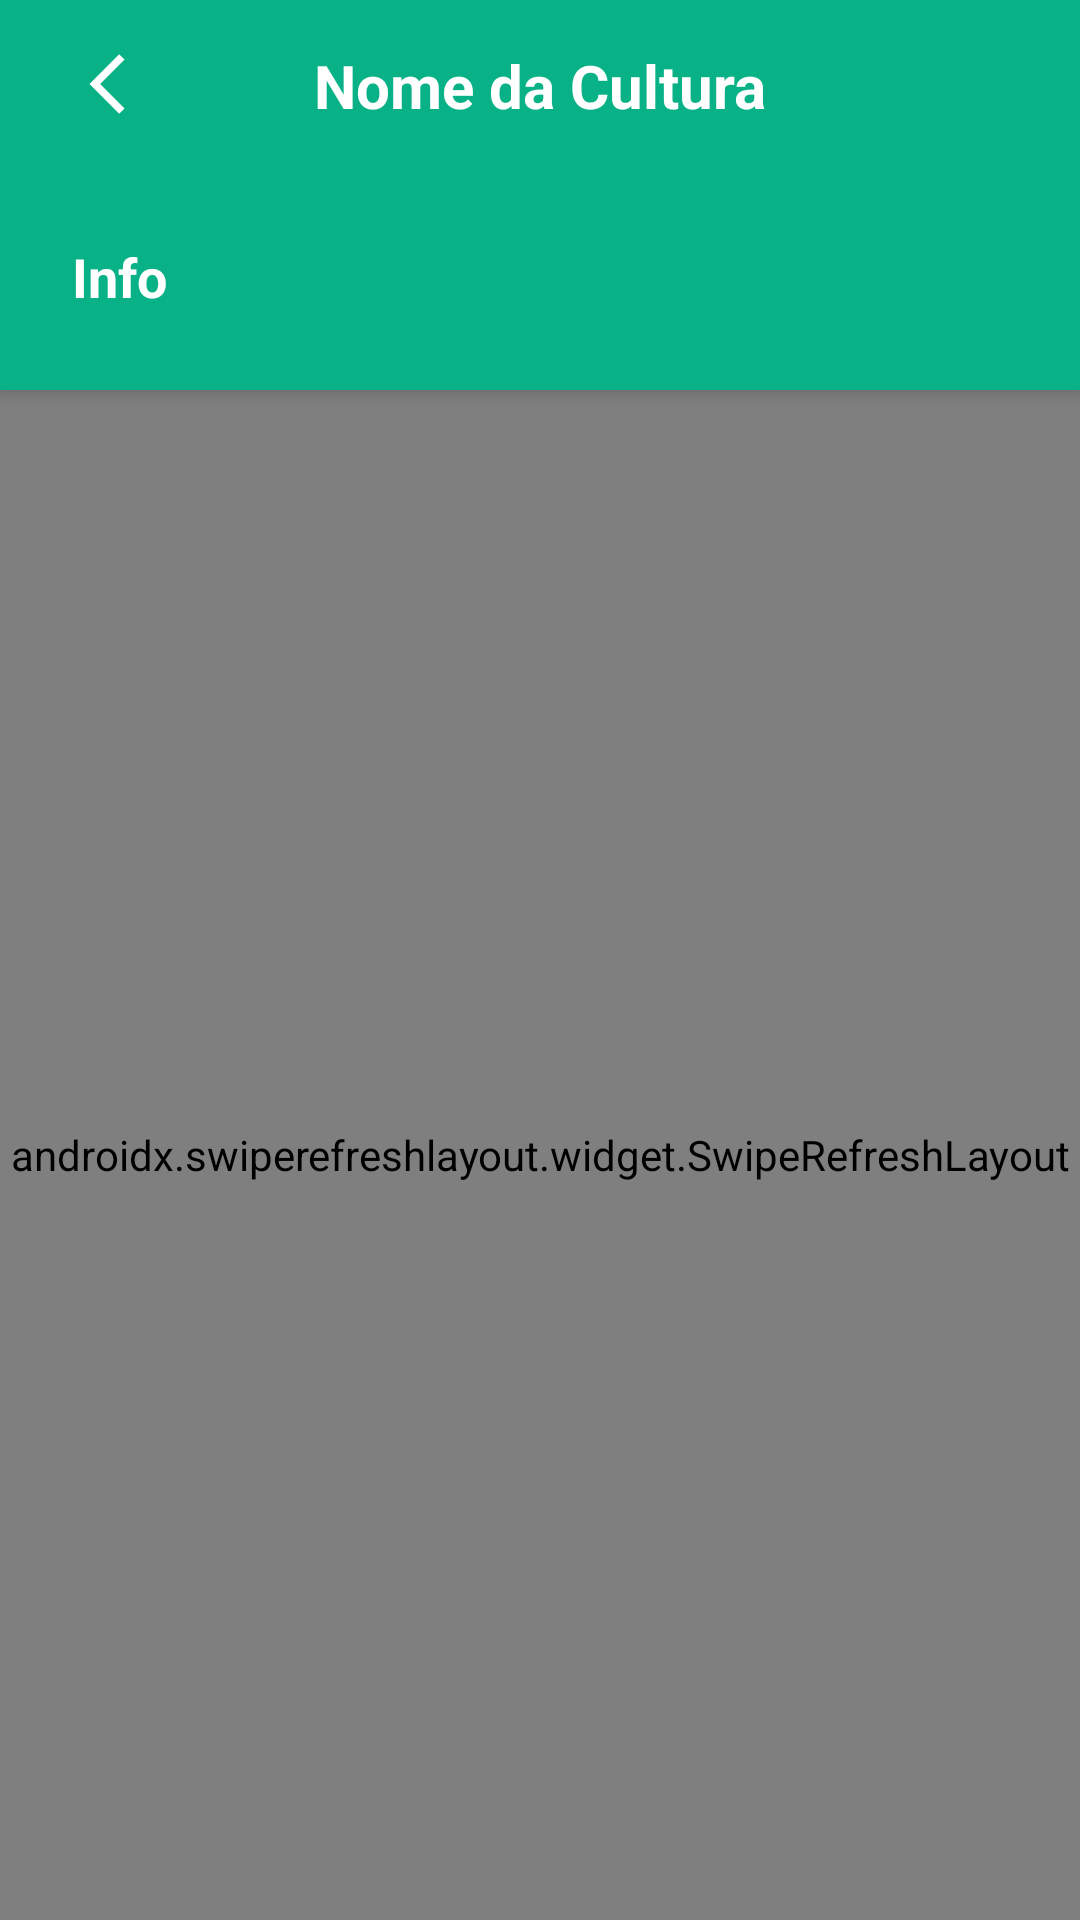

Point at icon controls on the screen. Image size 1080 x 1920, points as point (x, y).
arrow back: point (107, 84)
